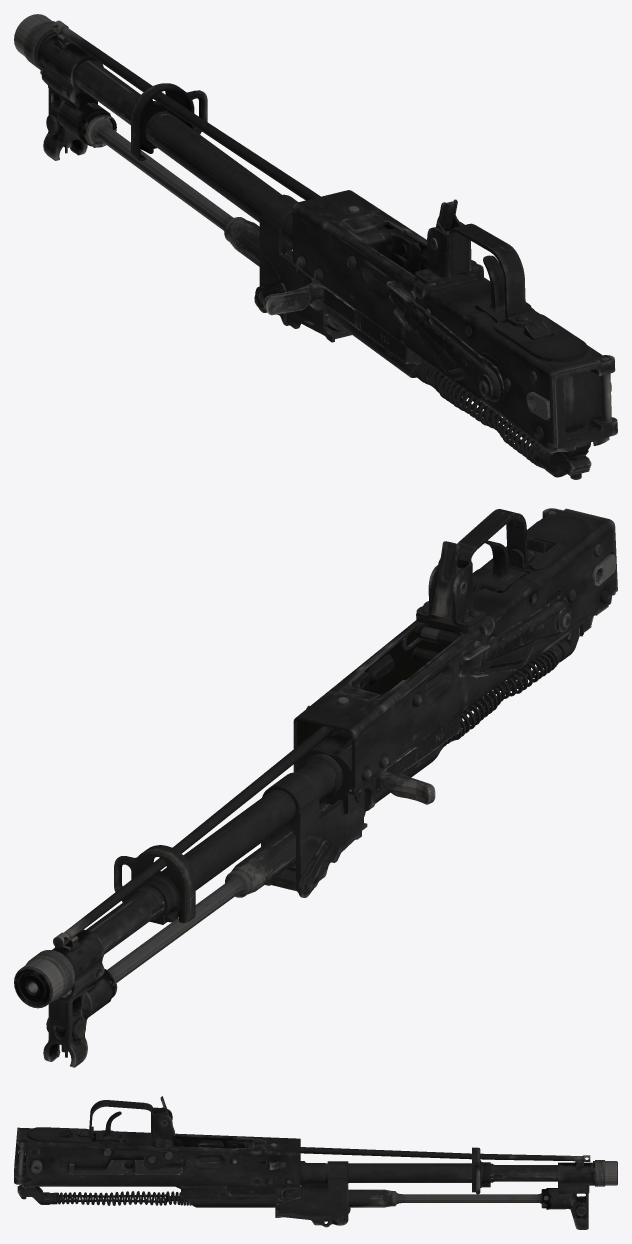
3 renders of one model, top to bottom at view 1: azimuth 30°, elevation 25°; view 2: azimuth 150°, elevation 25°; view 3: azimuth 270°, elevation 25°, orthographic. The views are drawn at different scales.
Parts seen in each view (by area): view 1: TW_5ac66d9b5acfc4001633997a_PZ_Import; view 2: TW_5ac66d9b5acfc4001633997a_PZ_Import; view 3: TW_5ac66d9b5acfc4001633997a_PZ_Import.
Part boxes in pixels (x1,y1,x2,y2): TW_5ac66d9b5acfc4001633997a_PZ_Import: [14, 14, 617, 479]; TW_5ac66d9b5acfc4001633997a_PZ_Import: [14, 508, 617, 1067]; TW_5ac66d9b5acfc4001633997a_PZ_Import: [14, 1096, 617, 1229].
Size of the model in its own units: 0.0424 by 0.3124 by 0.0735.
Materials: 1 (1 with a texture image).
